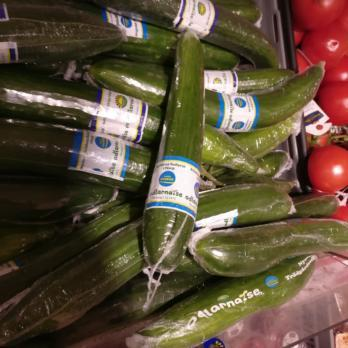Cucumber: (1, 0, 286, 317)
